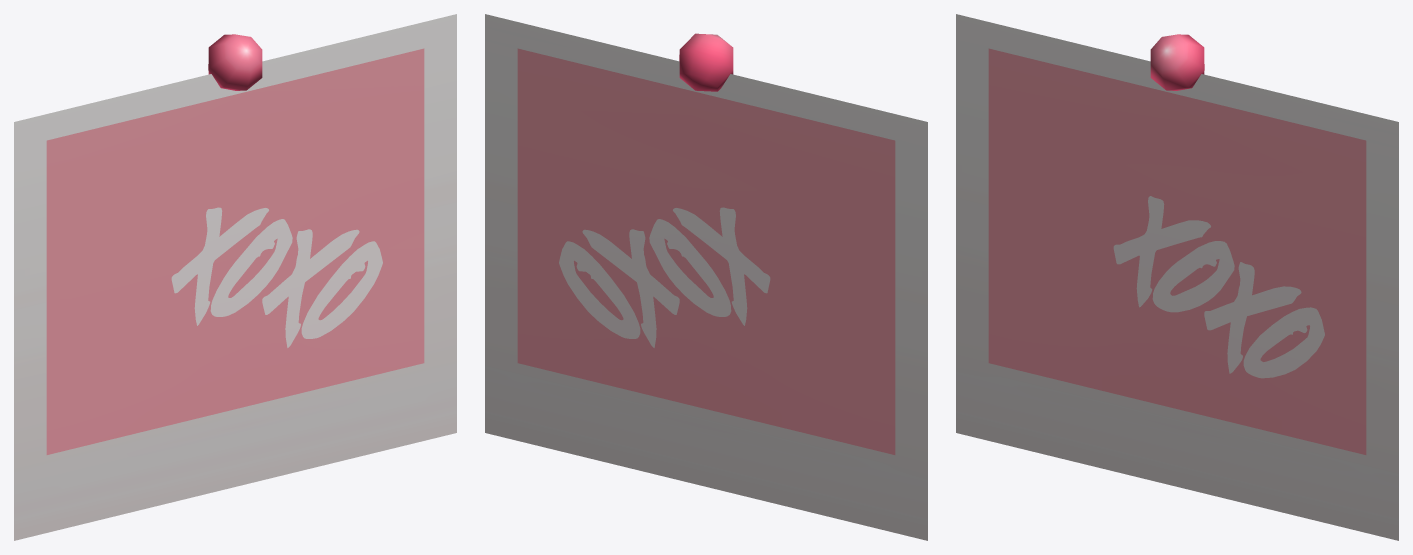
Rendered from Doll_OB_Memo_002.FBX.
The picture shows the model from 3 angles, left to right: view 1: azimuth 30°, elevation 25°; view 2: azimuth 150°, elevation 25°; view 3: azimuth 330°, elevation 25°; orthographic projection.
Visible parts, largest first — view 1: Doll_OB_Memo_002; view 2: Doll_OB_Memo_002; view 3: Doll_OB_Memo_002.
Part boxes in pixels (<box>): Doll_OB_Memo_002: <box>14,14,456,540</box>; Doll_OB_Memo_002: <box>485,14,927,540</box>; Doll_OB_Memo_002: <box>956,14,1398,540</box>.
Size of the model in its own units: 43.81 by 42.78 by 5.34.
